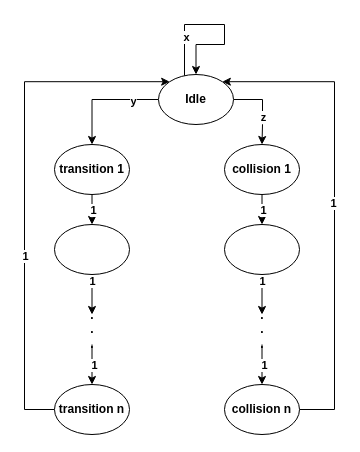
Some shapes in this 360 by 452 pixel diagram are drawn without their labels. The box of each missing label's shape, as (x1, y1, x2, y2) in pixels:
collision 2: (224, 224, 300, 274)
transition 2: (54, 224, 130, 274)
